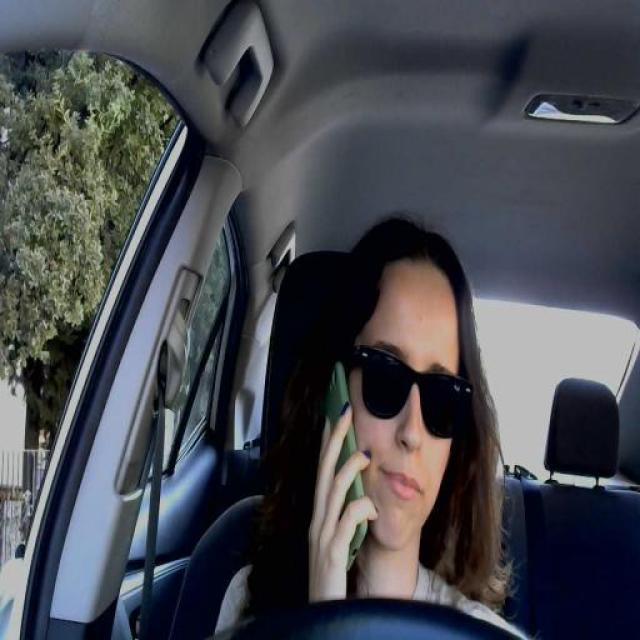phone: (318, 360, 369, 567)
